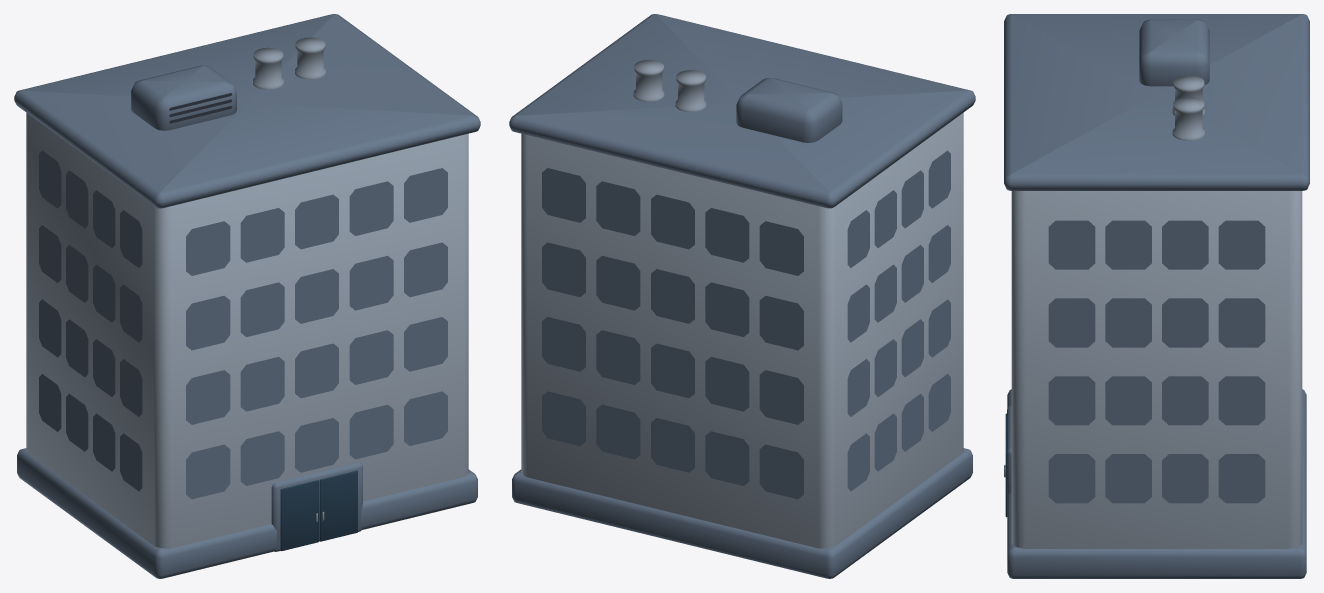
The model's file is deco-edificio-b.glb.
3 views of the same model, side by side, from view 1: azimuth 30°, elevation 25°; view 2: azimuth 150°, elevation 25°; view 3: azimuth 270°, elevation 25° (orthographic). The views are drawn at different scales.
Visible parts, largest first — view 1: deco-edificio-b; view 2: deco-edificio-b; view 3: deco-edificio-b.
Part boxes in pixels (x1,y1,x2,y2): deco-edificio-b: [14, 14, 480, 578]; deco-edificio-b: [509, 14, 975, 578]; deco-edificio-b: [1004, 14, 1309, 578].
Bounding box in the file's own units: 18 × 22 × 14.
